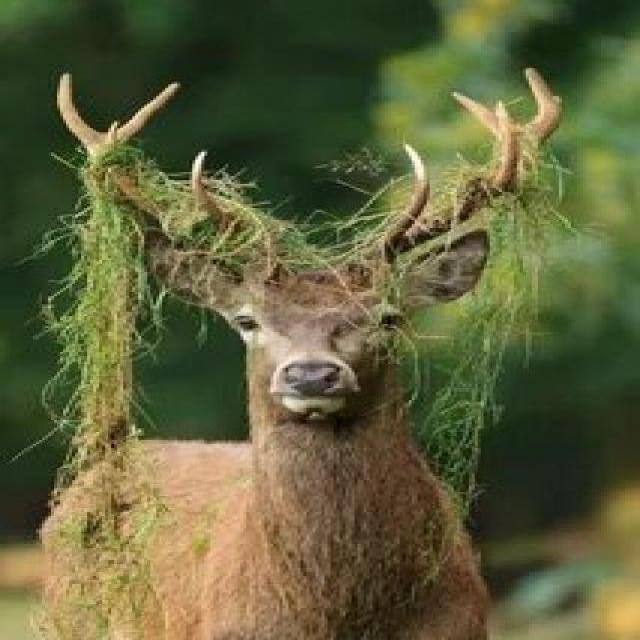deer: (0, 64, 609, 640)
